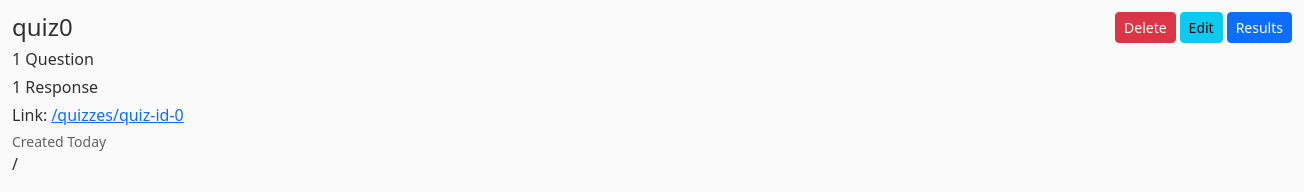
Test: QuizItem › redirects to the quiz editor when the edit button is clicked
Click the button "Edit". click: (1201, 28)
box: [1180,12,1223,43]
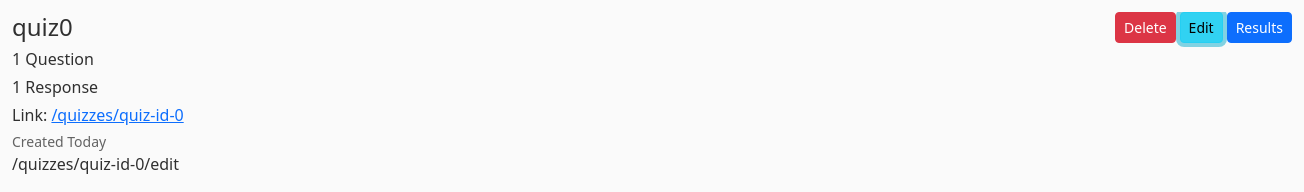
Check: the text with test id "router-location" reads "/quizzes/quiz-id-0/edit", box [12,153,179,175]
